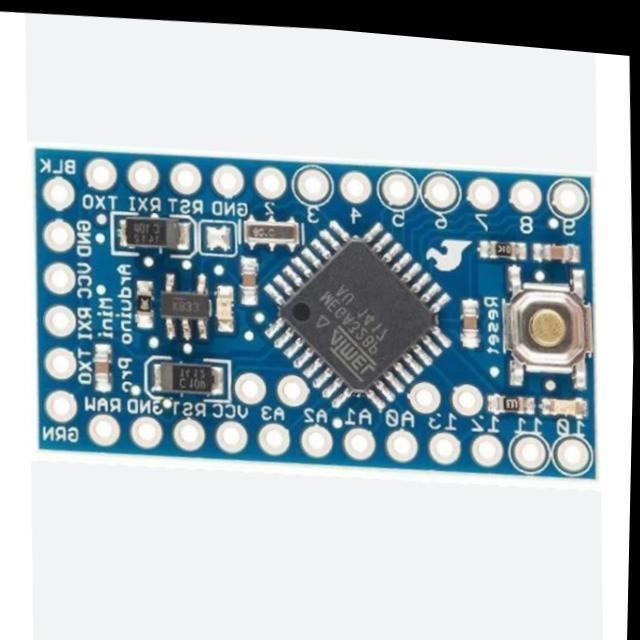Arduino-ProMini: (37, 150, 594, 477)
